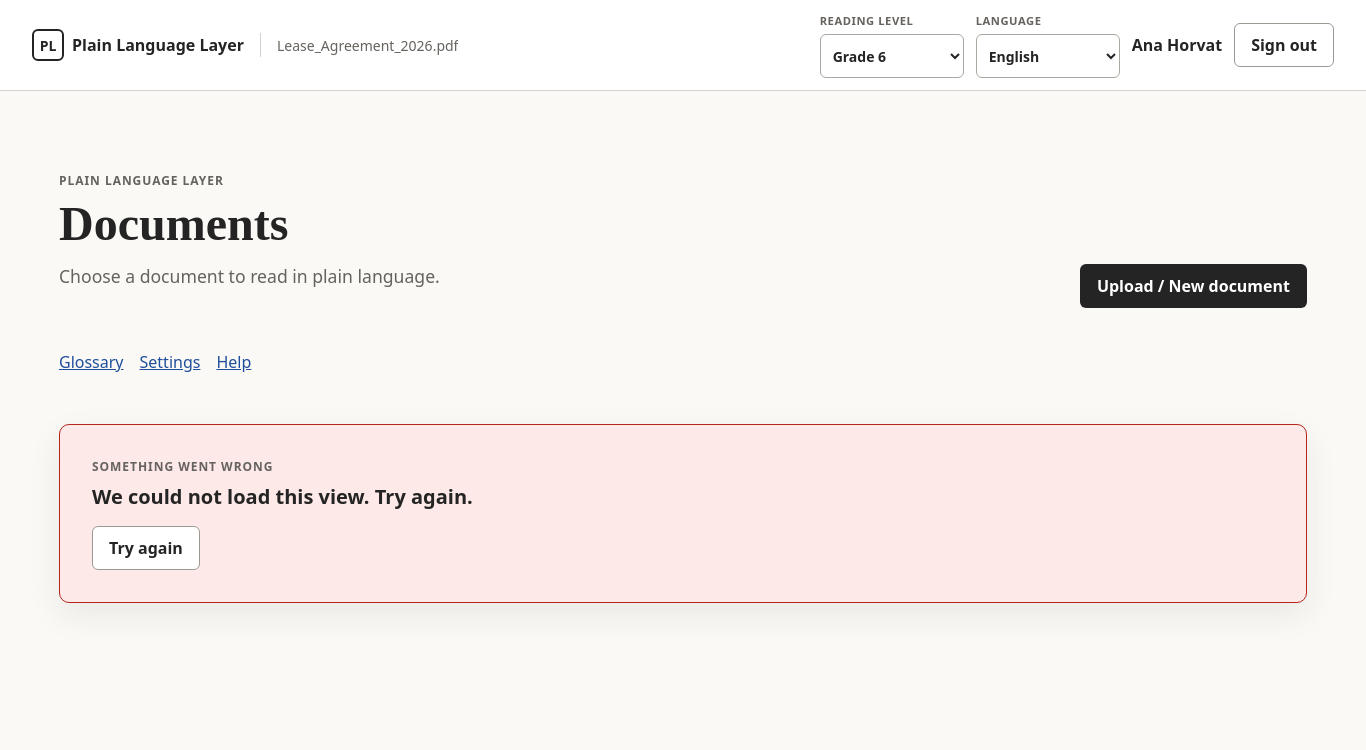
Test: documents list (screens 04 / 06) › API down: shows the error state with retry, and retry recovers
Expected: the text "Something went wrong" is shown, [92, 458, 273, 475]
Click the button "Try again" at point(146, 548), box [92, 526, 200, 570]
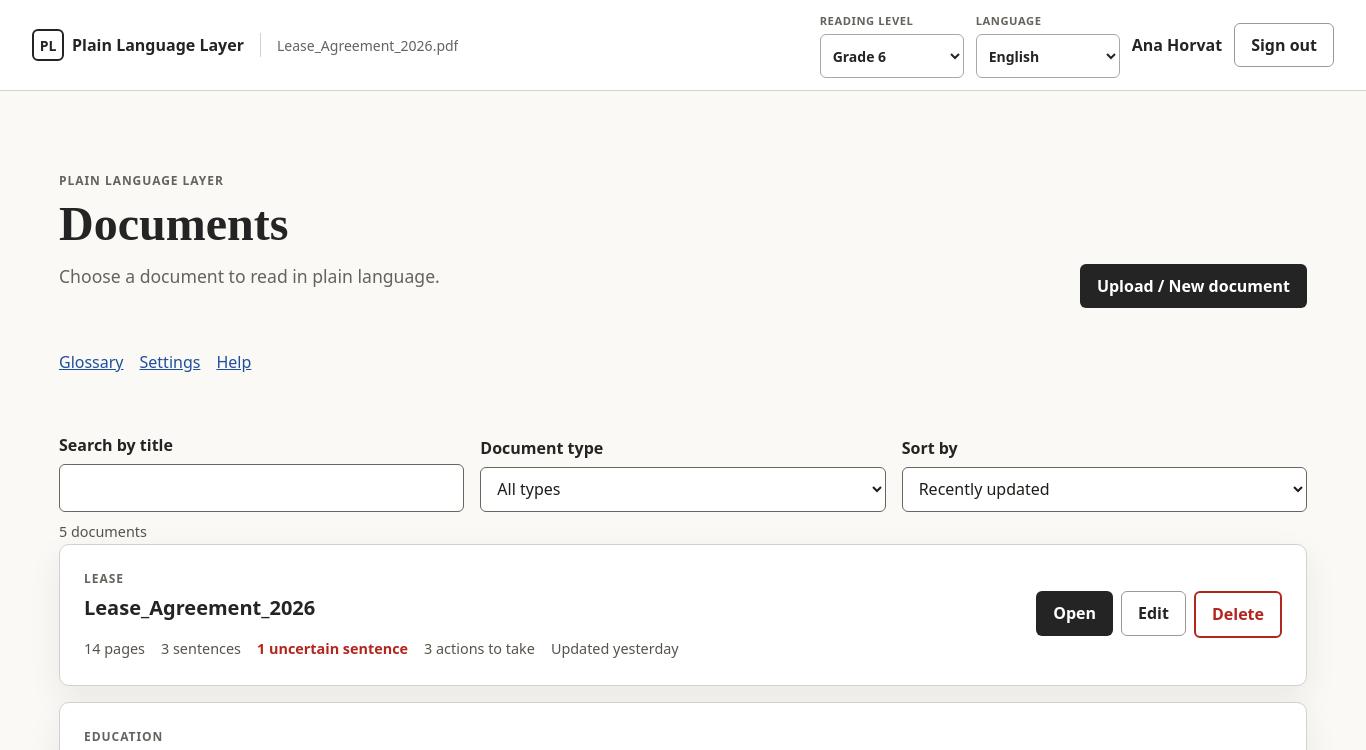
Expected: the heading "Lease_Agreement_2026" is shown, [84, 594, 315, 621]
